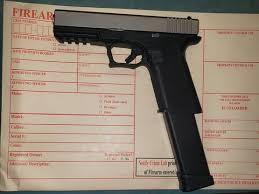gun: (50, 6, 209, 120)
